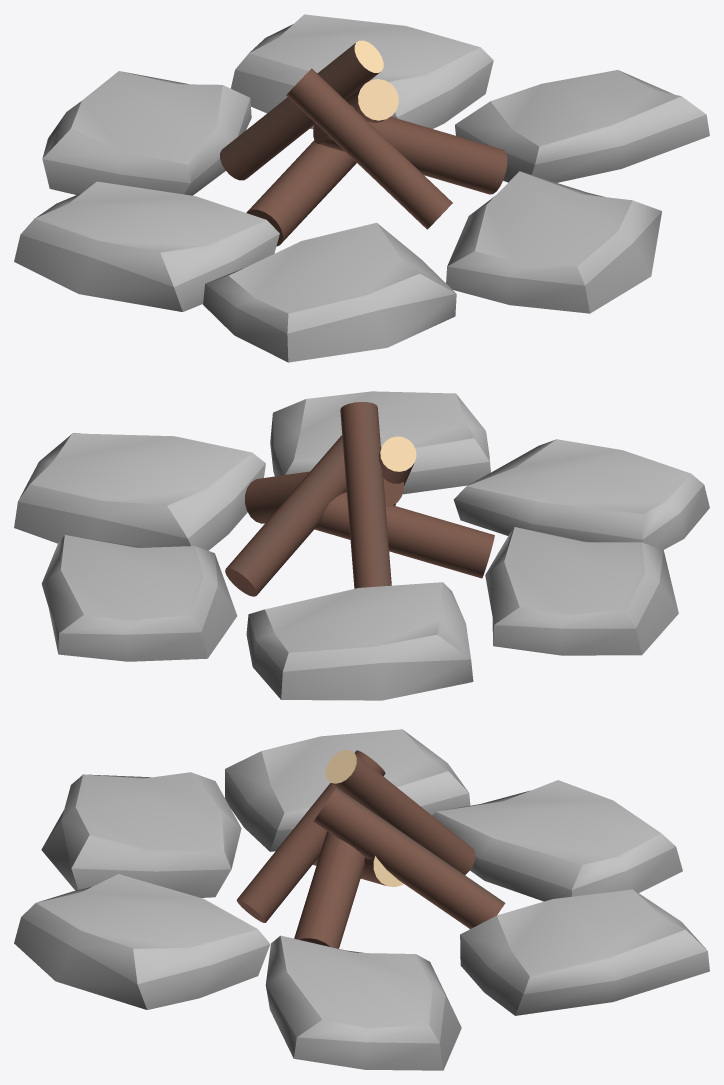
File: Campfire.FBX
The picture shows the model from 3 angles, top to bottom: view 1: azimuth 30°, elevation 25°; view 2: azimuth 150°, elevation 25°; view 3: azimuth 270°, elevation 25°; orthographic projection. The views are drawn at different scales.
Visible parts, largest first — view 1: campfire; view 2: campfire; view 3: campfire.
Boxes of the visible parts, x1,y1,x2,y2 form: campfire: (14,14,709,362); campfire: (14,391,709,700); campfire: (14,729,709,1070).
Size of the model in its own units: 44.49 by 11.32 by 42.05.
1 material, 1 textured.
